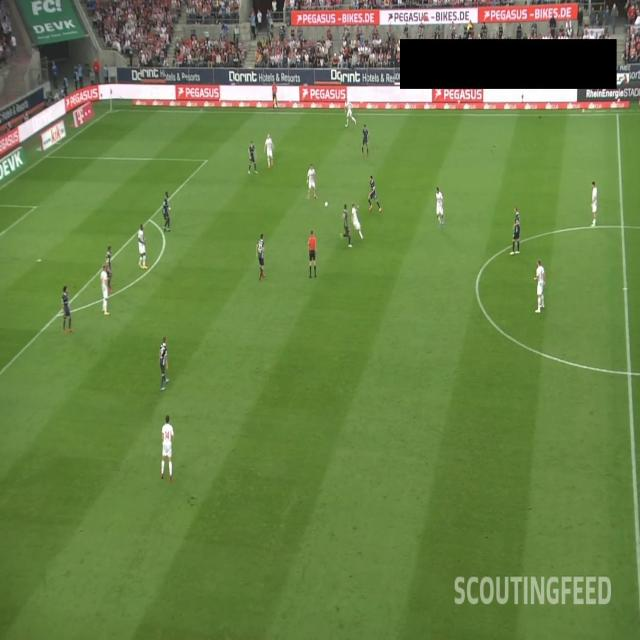ball: (324, 200, 328, 208)
